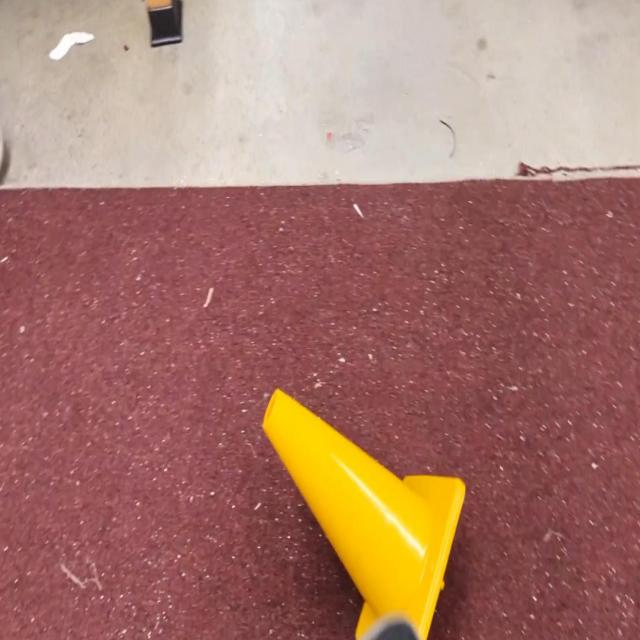frc_cone: (260, 386, 464, 640)
